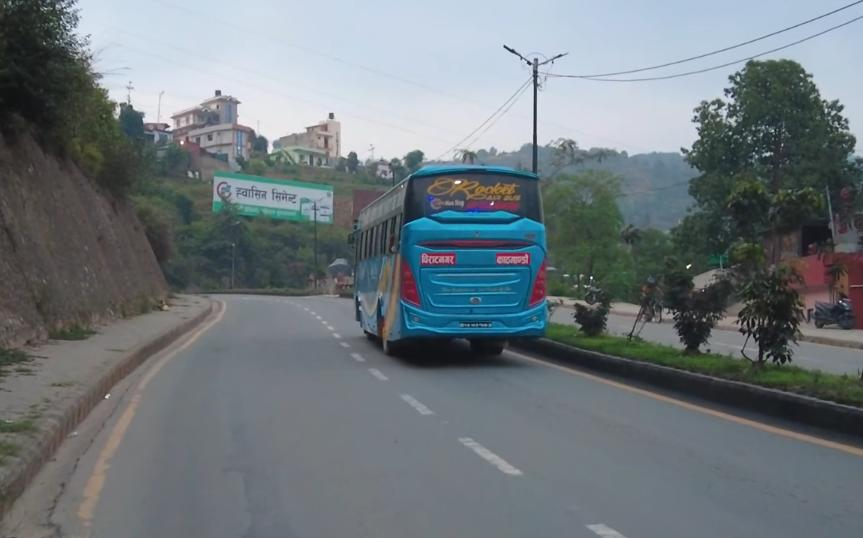bus: (336, 151, 557, 347)
